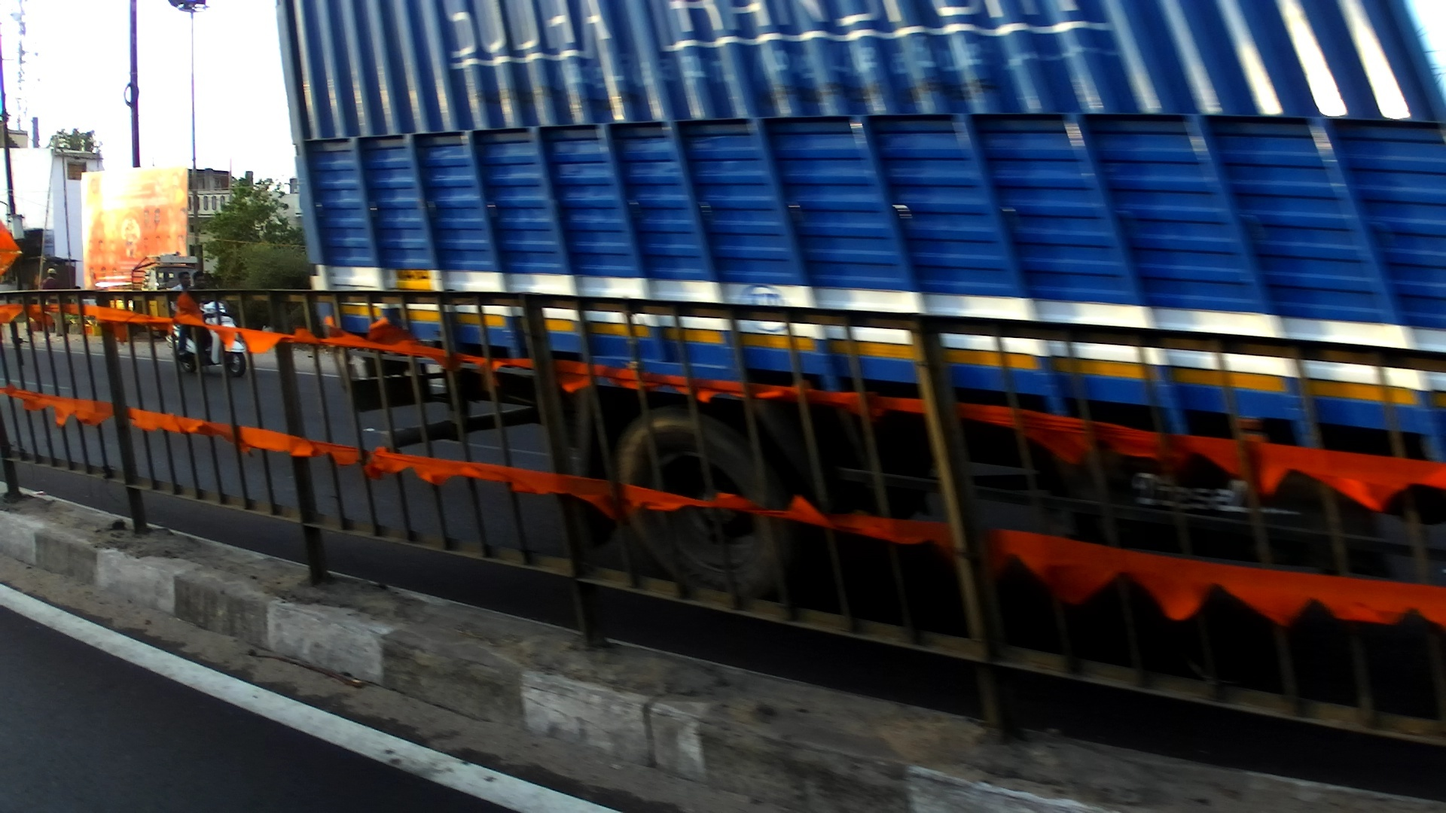person: (39, 265, 59, 294)
rider: (185, 271, 211, 301), (170, 271, 194, 300)
truck: (275, 1, 1444, 480)
vehicle fallback: (117, 256, 206, 305)
